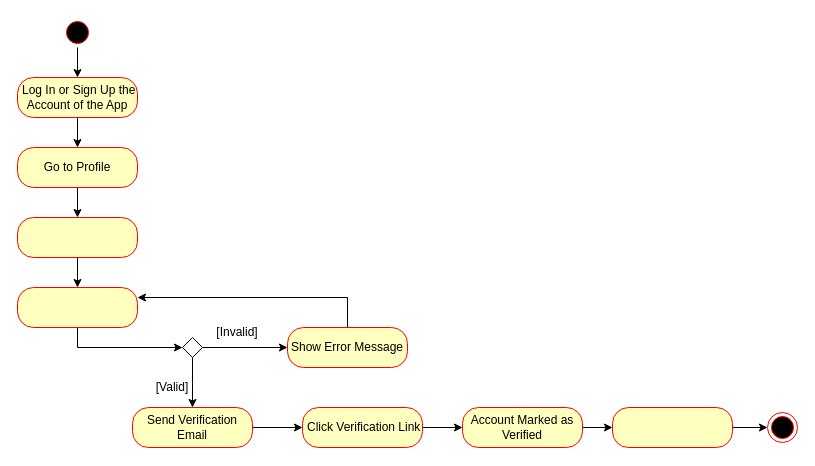
Some shapes in this 815 by 466 pixel diagram are drawn without their labels. Each missing label, with the centre of its shape:
Enter NYU Email Address: (x=77, y=307)
Show Home Screen and See “Verified NYU” Badge: (x=672, y=427)
Tap "Verify NYU Email": (x=77, y=237)
